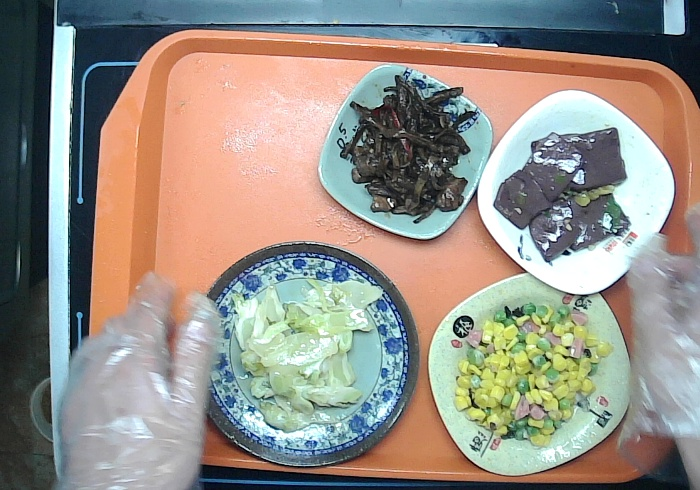NLDX-Bai_Se_Xiao_Fang_Die: (474, 84, 679, 300)
NLDX-Fu_Zi_Fang_Die: (420, 266, 639, 480)
NLDX-Qing_Hua_Xiao_Fang_Die: (315, 60, 498, 247)
NLDX-Qing_Hua_Yuan_Die: (177, 230, 429, 471)
